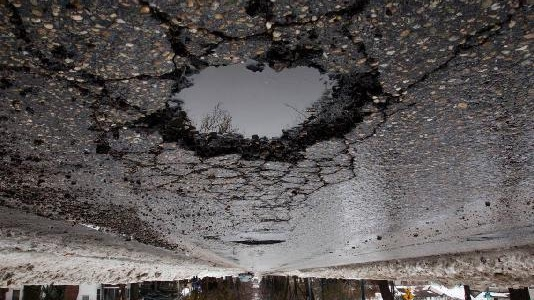pothole: (134, 40, 392, 167), (234, 238, 284, 248)
